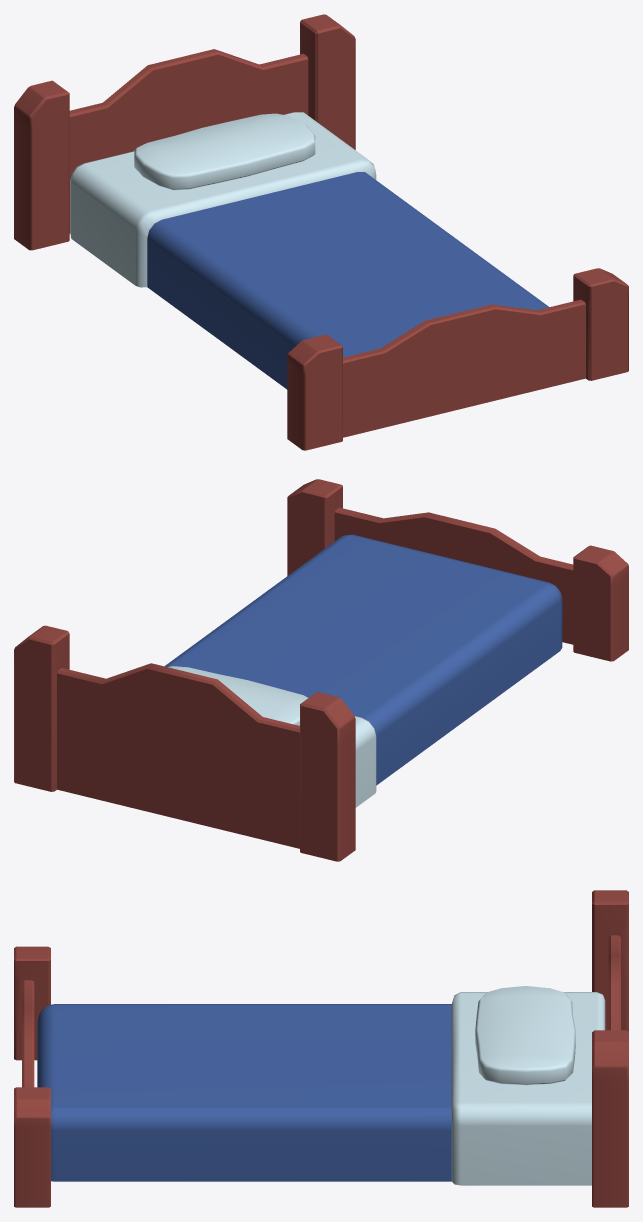
Rendered from Letto_2.fbx.
3 views of the same model, one above another, from view 1: azimuth 30°, elevation 25°; view 2: azimuth 150°, elevation 25°; view 3: azimuth 270°, elevation 25° (orthographic). The views are drawn at different scales.
Parts seen in each view (by area): view 1: Letto_2; view 2: Letto_2; view 3: Letto_2.
Boxes of the visible parts, x1,y1,x2,y2 form: Letto_2: [14, 14, 628, 450]; Letto_2: [14, 479, 628, 861]; Letto_2: [14, 890, 628, 1207].
Bounding box in the file's own units: 1.78 × 0.7774 × 2.75.
